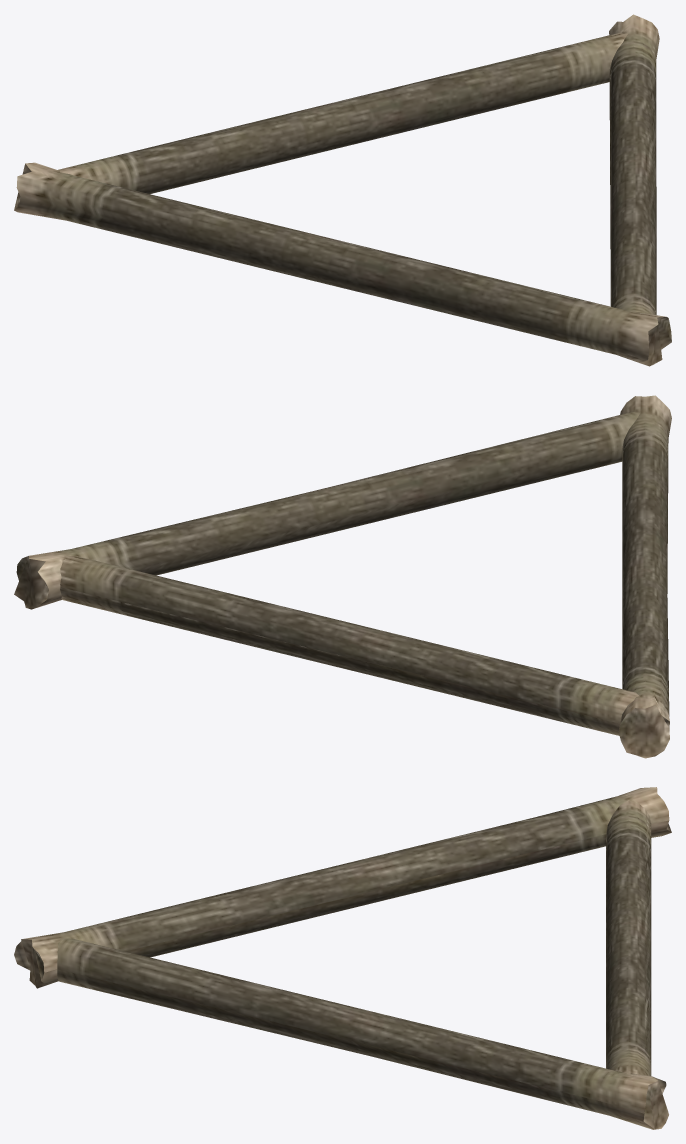
File: floor.triangle.twig.frame.glb
The picture shows the model from 3 angles, top to bottom: view 1: azimuth 30°, elevation 25°; view 2: azimuth 150°, elevation 25°; view 3: azimuth 270°, elevation 25°; orthographic projection. The views are drawn at different scales.
Visible parts, largest first — view 1: frame_LOD0; view 2: frame_LOD0; view 3: frame_LOD0.
Boxes of the visible parts, x1,y1,x2,y2 form: frame_LOD0: (14,14,671,366); frame_LOD0: (14,395,671,758); frame_LOD0: (14,787,671,1129).
Size of the model in its own units: 3.09 by 0.2186 by 2.76.
Materials: 1 (1 with a texture image).
